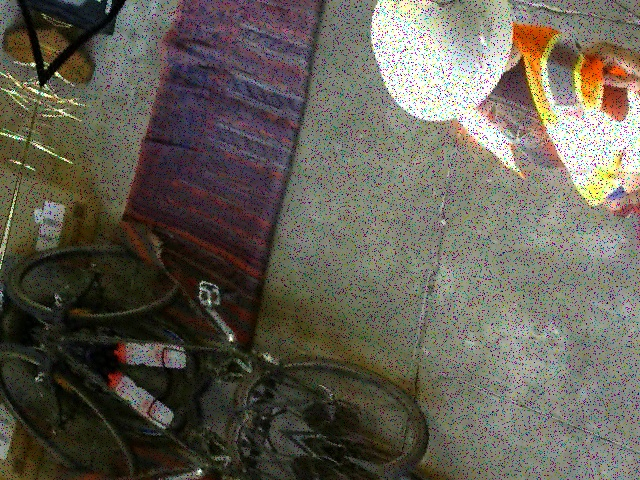two: (399, 0, 461, 11)
